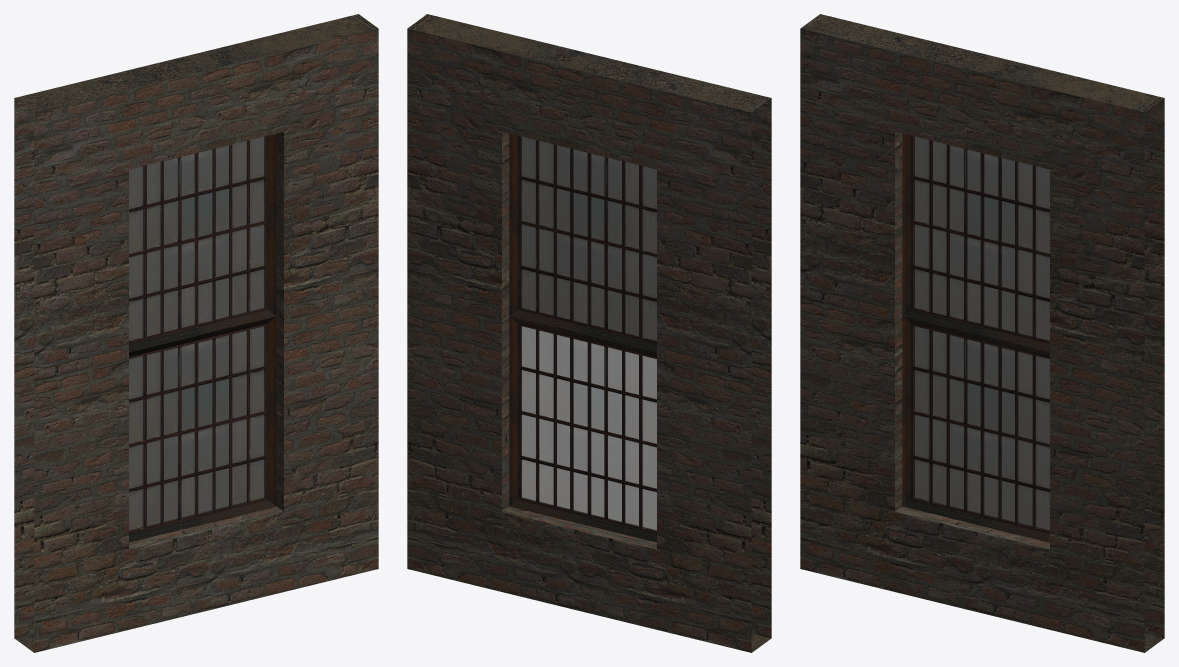
Rendered from wall_hr_1_m_2.fbx.
3 views of the same model, side by side, from view 1: azimuth 30°, elevation 25°; view 2: azimuth 150°, elevation 25°; view 3: azimuth 330°, elevation 25° (orthographic).
Visible parts, largest first — view 1: wall_hr_1_m_2; view 2: wall_hr_1_m_2; view 3: wall_hr_1_m_2.
Boxes of the visible parts, bbox=[...] form: wall_hr_1_m_2: bbox=[14, 14, 378, 652]; wall_hr_1_m_2: bbox=[407, 14, 771, 652]; wall_hr_1_m_2: bbox=[800, 14, 1164, 652].
Bounding box in the file's own units: 4 × 0.4 × 6.
